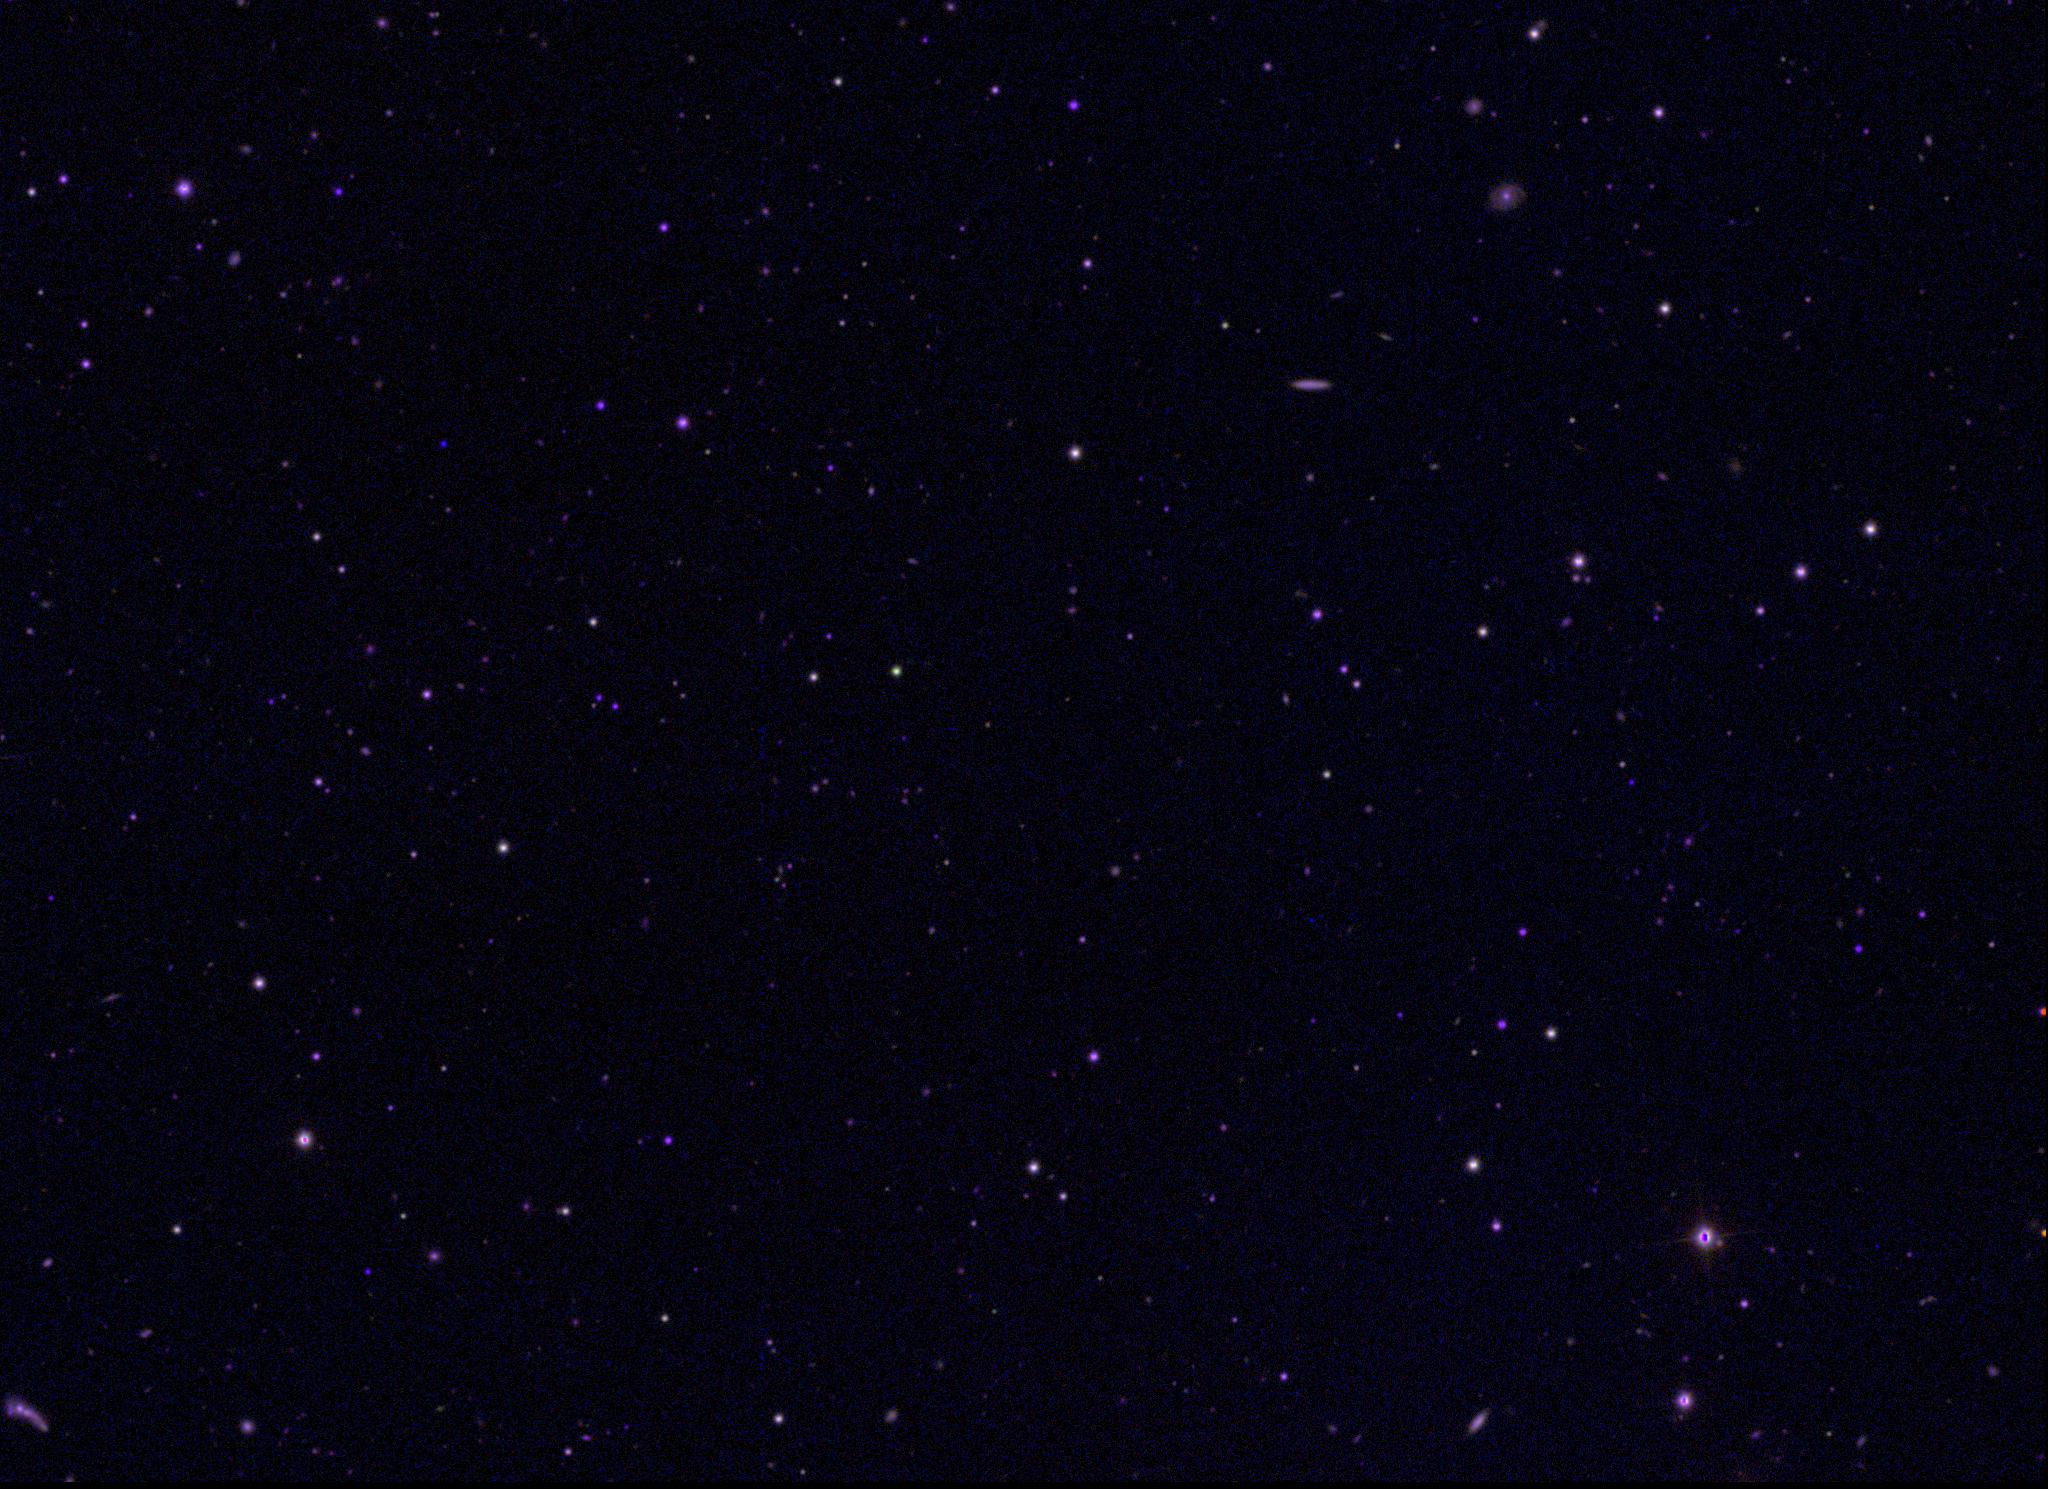L: (436, 437, 448, 452)
